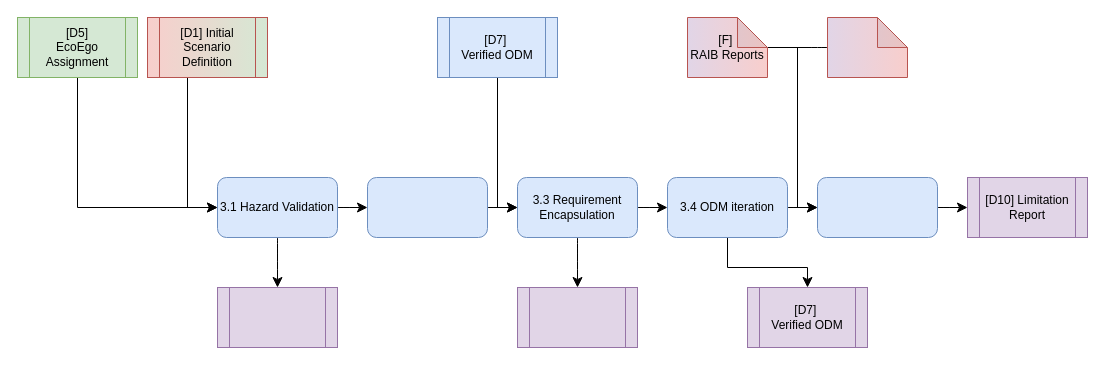
Image size: 1105x365. Some labels were removed from this diagram. Here are the shapes that lost their labels. From the top down, the centre of each, then its label:
(867,47): [G] Interviews
(427,207): 3.2 Mitigation Review
(877,207): 3.5 Requirement Assurance
(277,317): [D8] Hazard Register
(577,317): [D9] Assurance Traceability Matrix
